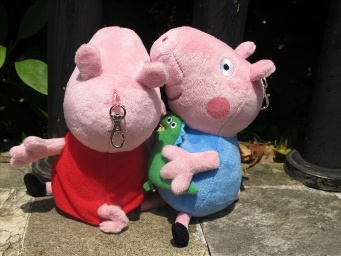Peppa: (11, 23, 160, 235)
